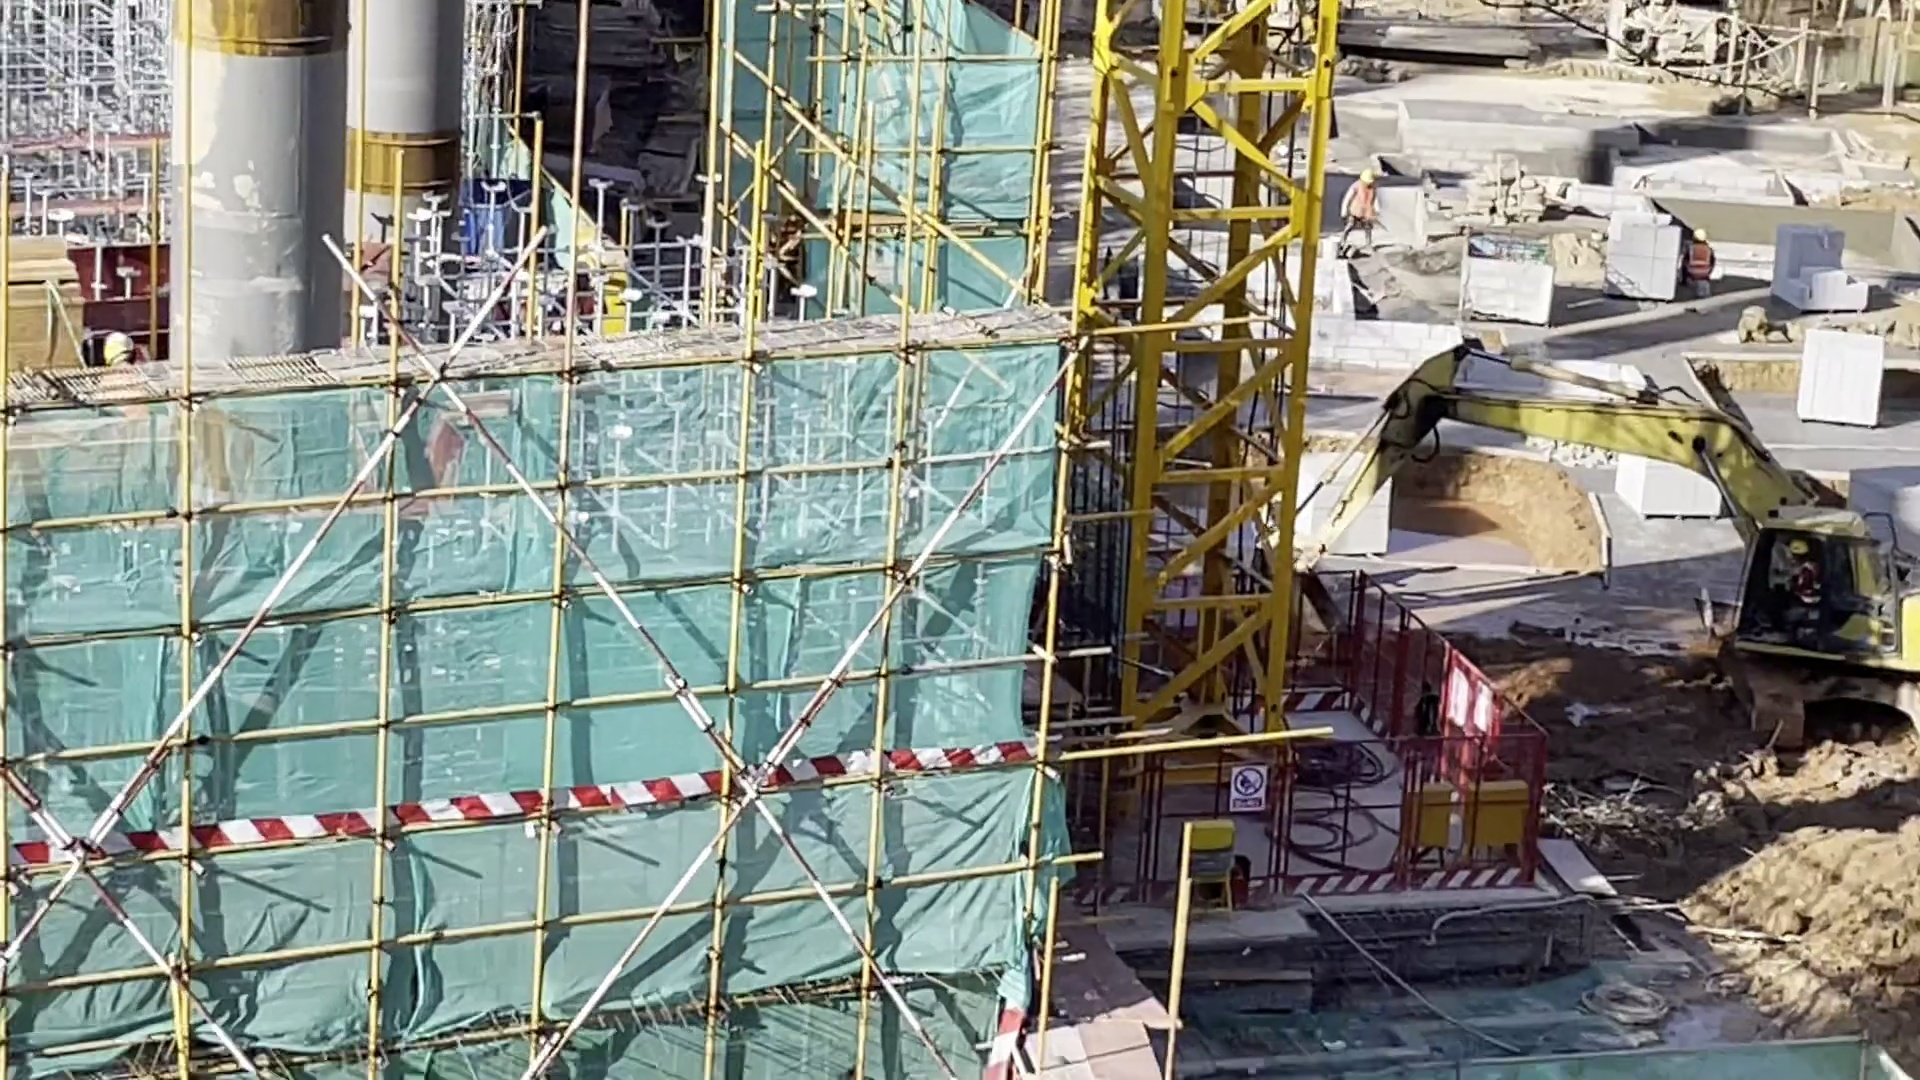brick: (1799, 328, 1884, 427), (1300, 468, 1384, 560), (1606, 217, 1690, 309), (1784, 232, 1864, 311), (1628, 448, 1704, 519)
ebox: (1473, 788, 1527, 867), (1398, 788, 1449, 848)
helmet: (107, 333, 137, 364), (1783, 537, 1806, 555), (1358, 168, 1373, 184), (1694, 231, 1708, 242)
person: (87, 326, 156, 439), (1331, 167, 1382, 260), (1785, 539, 1826, 638), (1680, 224, 1712, 291)
slogan: (1230, 768, 1274, 817)
vest: (98, 371, 151, 420), (1344, 184, 1376, 225), (1794, 565, 1819, 603), (1687, 248, 1713, 279)
wood: (1, 244, 89, 380)
